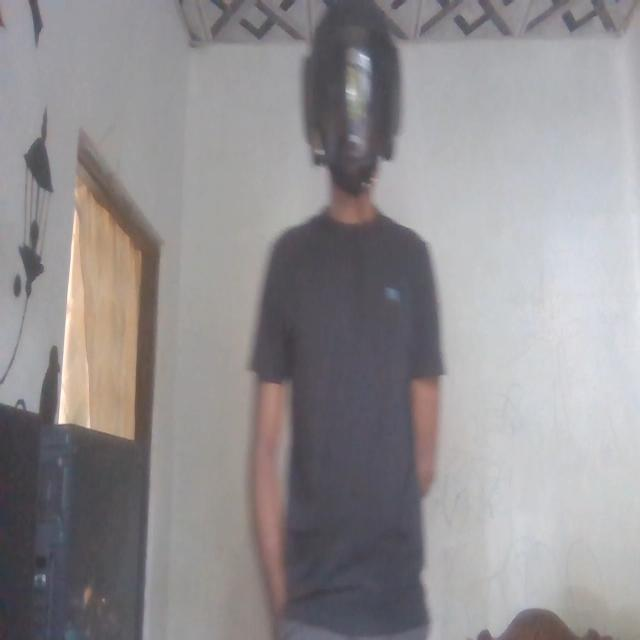Helmet_Wearer: (290, 0, 406, 228)
Person: (247, 3, 444, 640)
